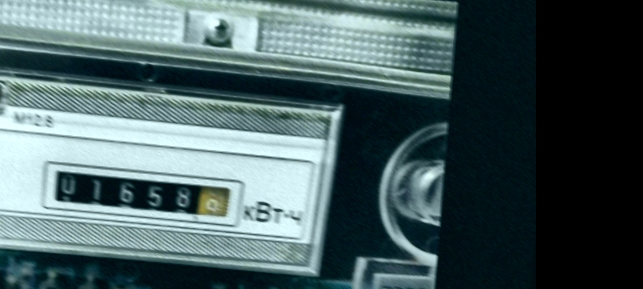0: (59, 171, 77, 193)
1: (88, 174, 104, 199)
5: (146, 181, 164, 206)
6: (117, 178, 137, 203)
8: (174, 183, 193, 207)
9: (202, 194, 220, 216)
screen: (38, 155, 248, 230)
